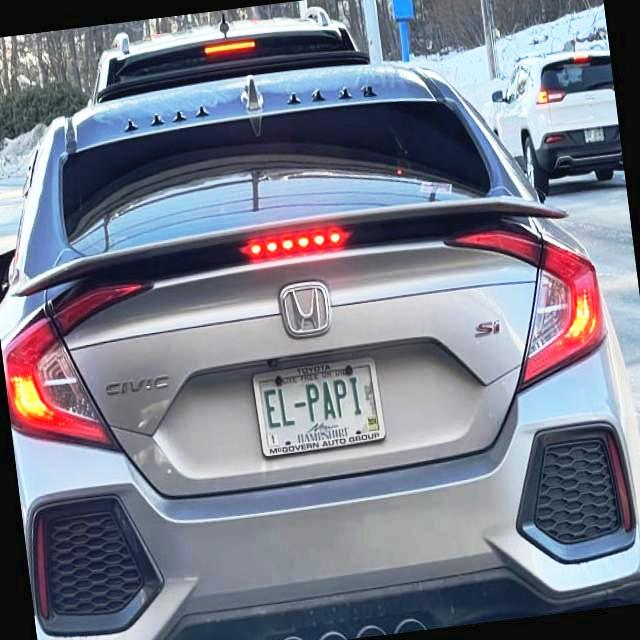license_plate: (257, 363, 387, 460)
